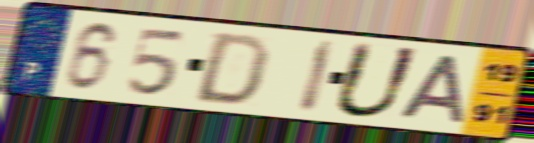5: (124, 26, 190, 97)
6: (66, 20, 118, 93)
A: (394, 52, 468, 125)
D: (189, 31, 274, 108)
I: (295, 37, 338, 117)
U: (328, 39, 425, 121)
